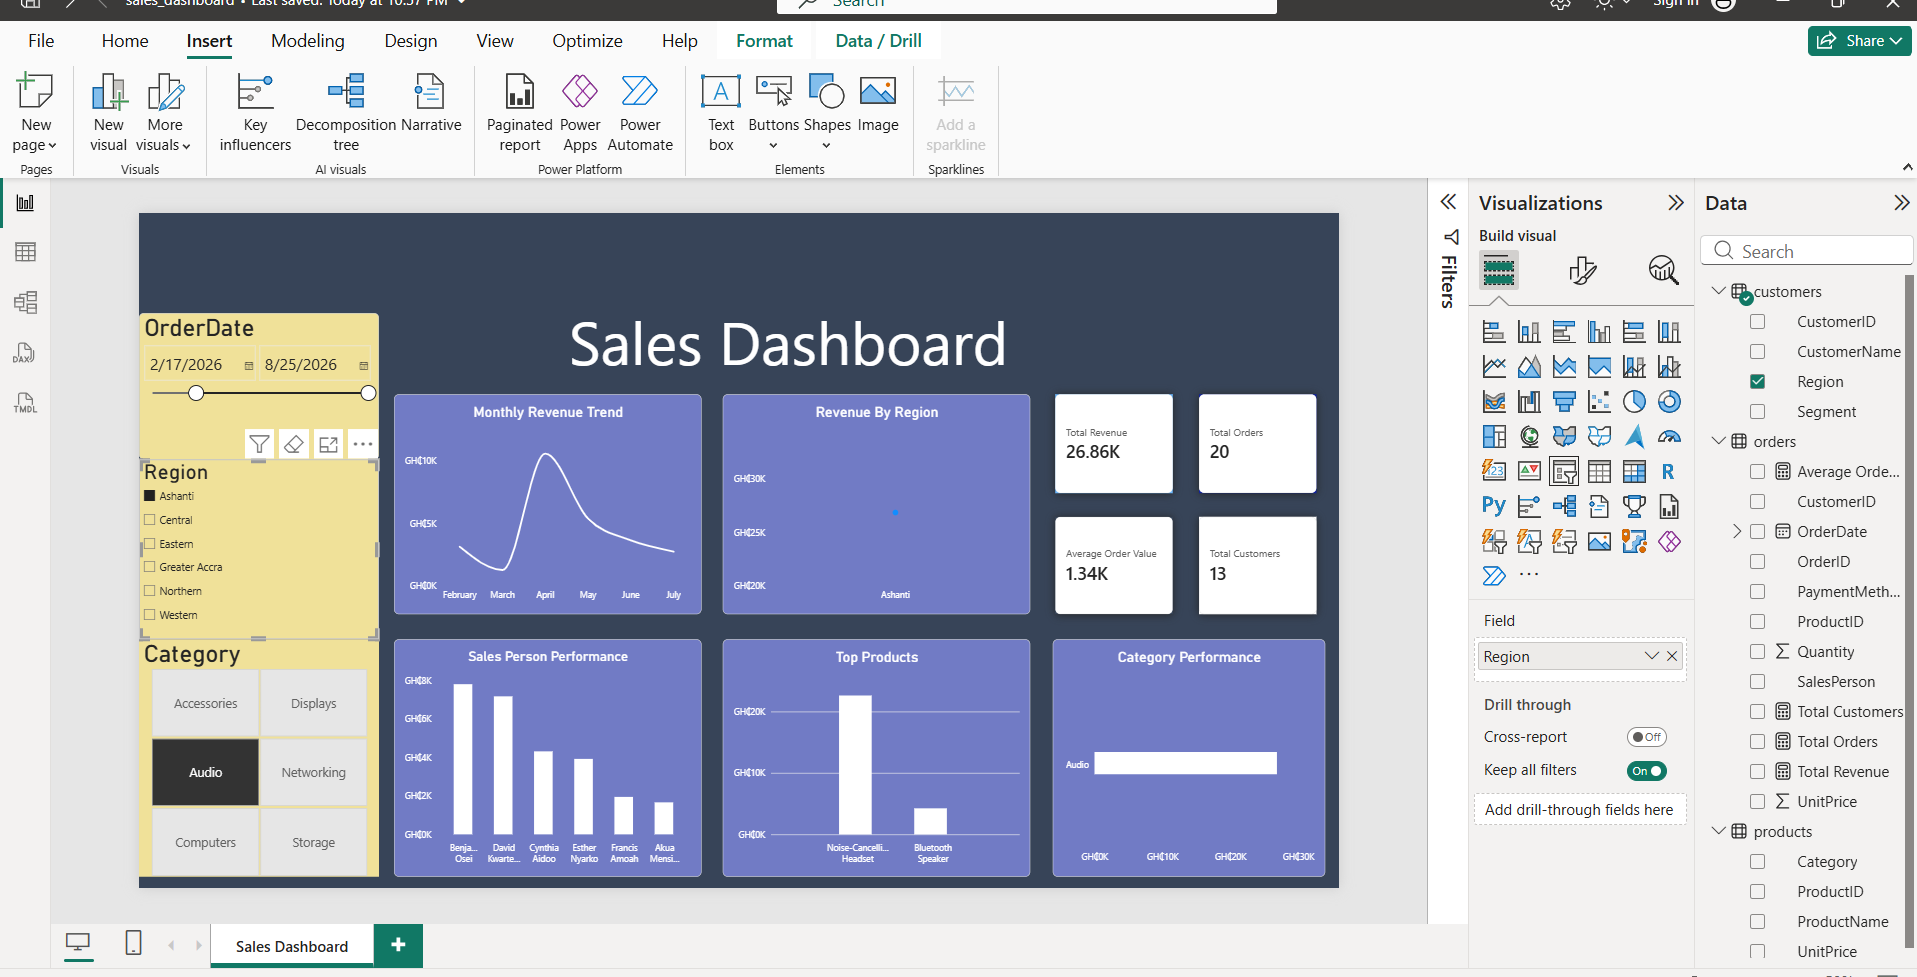

The dashboard page shown, as its layout file describes it:
{"tool":"powerbi","page":{"name":"Sales Dashboard","canvas":[1920,1080],"ordinal":0},"visuals":[{"type":"cardVisual","title":"Total Revenue","fields":{"Data":["orders.Total Revenue"]},"box":[1466,290,188,158],"z":0},{"type":"cardVisual","fields":{"Data":["orders.Total Orders"]},"box":[1696,290,188,158],"z":1000},{"type":"cardVisual","fields":{"Data":["orders.Average Order Value"]},"box":[1466,486,188,156],"z":2000},{"type":"cardVisual","fields":{"Data":["orders.Total Customers"]},"box":[1696,486,188,156],"z":3000},{"type":"slicer","fields":{"Values":["orders.OrderDate"]},"box":[0,160,384,234],"z":4000},{"type":"slicer","fields":{"Values":["products.Category"]},"box":[0,682,384,380],"z":5000},{"type":"lineChart","title":"Monthly Revenue Trend","fields":{"Category":["orders.OrderDate.Variation.Date Hierarchy.Month"],"Y":["orders.Total Revenue"]},"box":[408,290,492,352],"z":6000},{"type":"slicer","fields":{"Values":["customers.Region"]},"box":[0,394,384,288],"z":7000},{"type":"lineChart","title":"Revenue By Region","fields":{"Category":["customers.Region"],"Y":["orders.Total Revenue"]},"box":[934,290,492,352],"z":8000},{"type":"clusteredColumnChart","title":"Top Products","fields":{"Category":["products.ProductName"],"Y":["orders.Total Revenue"]},"box":[934,682,492,380],"z":9000},{"type":"clusteredColumnChart","title":"Sales Person Performance","fields":{"Category":["orders.SalesPerson"],"Y":["orders.Total Revenue"]},"box":[408,682,492,380],"z":10000},{"type":"textbox","box":[656,140,766,138],"z":11000},{"type":"clusteredBarChart","title":"Category Performance","fields":{"Category":["products.Category"],"Y":["orders.Total Revenue"]},"box":[1462,682,436,380],"z":11001}]}

Visuals, with their boxes on the page's 1920x1080 design canvas (x1, y1, x2, y2). These are canvas units, not pixel positions in the 1917x977 screenshot, which may show the page scaled, cropped or inside an application window:
"Total Revenue" cardVisual: bbox=[1466, 290, 1654, 448]
cardVisual - orders.Total Orders: bbox=[1696, 290, 1884, 448]
cardVisual - orders.Average Order Value: bbox=[1466, 486, 1654, 642]
cardVisual - orders.Total Customers: bbox=[1696, 486, 1884, 642]
slicer - orders.OrderDate: bbox=[0, 160, 384, 394]
slicer - products.Category: bbox=[0, 682, 384, 1062]
"Monthly Revenue Trend" lineChart: bbox=[408, 290, 900, 642]
slicer - customers.Region: bbox=[0, 394, 384, 682]
"Revenue By Region" lineChart: bbox=[934, 290, 1426, 642]
"Top Products" clusteredColumnChart: bbox=[934, 682, 1426, 1062]
"Sales Person Performance" clusteredColumnChart: bbox=[408, 682, 900, 1062]
textbox: bbox=[656, 140, 1422, 278]
"Category Performance" clusteredBarChart: bbox=[1462, 682, 1898, 1062]
